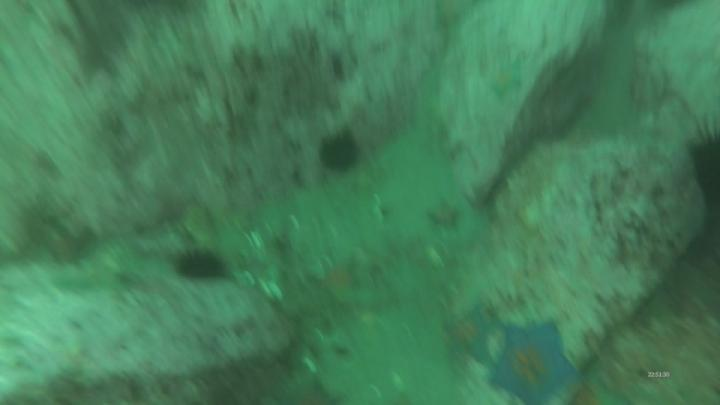echinus: (319, 136, 359, 172), (175, 255, 227, 282)
starfish: (490, 323, 582, 402), (439, 313, 497, 368), (494, 64, 524, 102), (321, 261, 359, 291), (432, 202, 462, 230)
